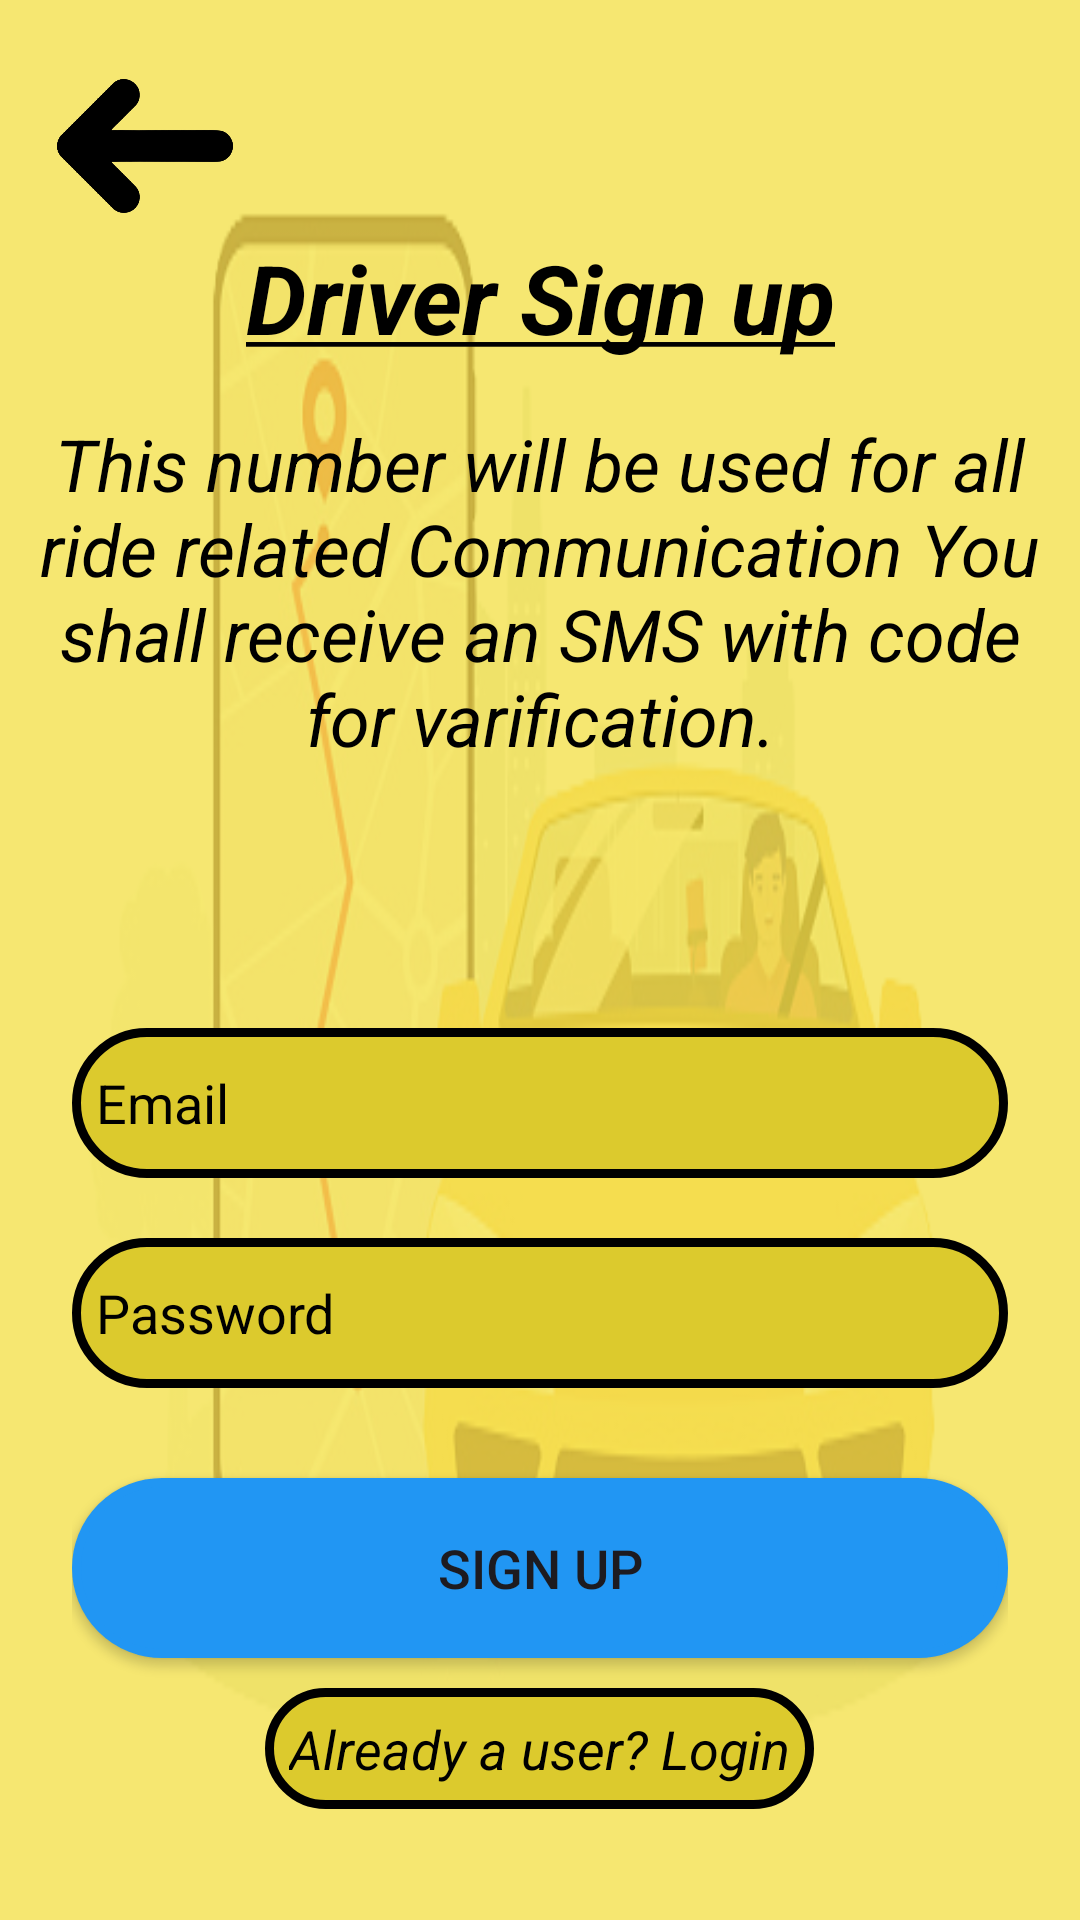

Screen size 1080px×1920px. Icon name, then its box in pixels as (x1, y1, x2, y2):
returnback: (57, 79, 233, 213)
